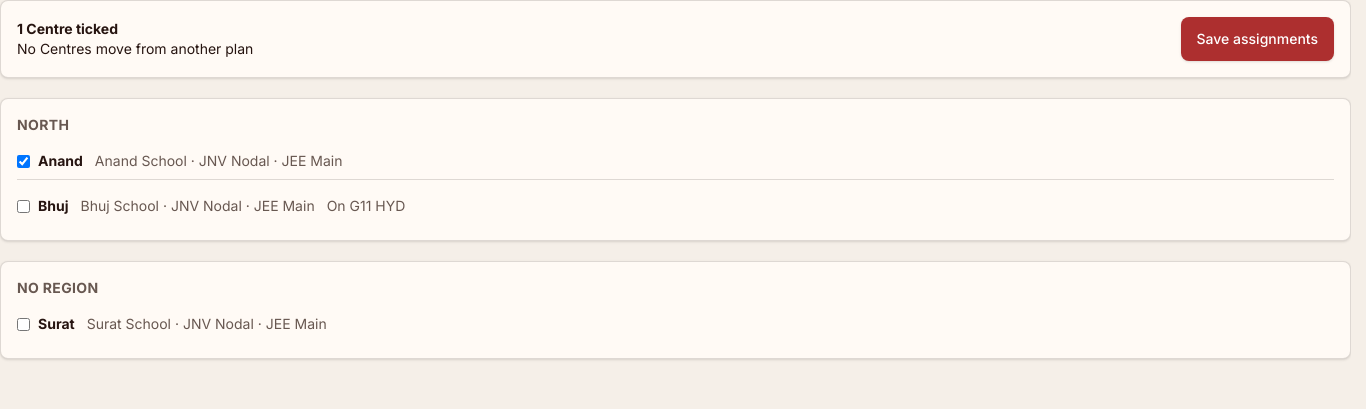
Test case: CurriculumPlanAssignForm › saves the ticked Centres and reloads the preview
Click the button "Save assignments".
click(1257, 39)  # box [1181,17,1334,61]
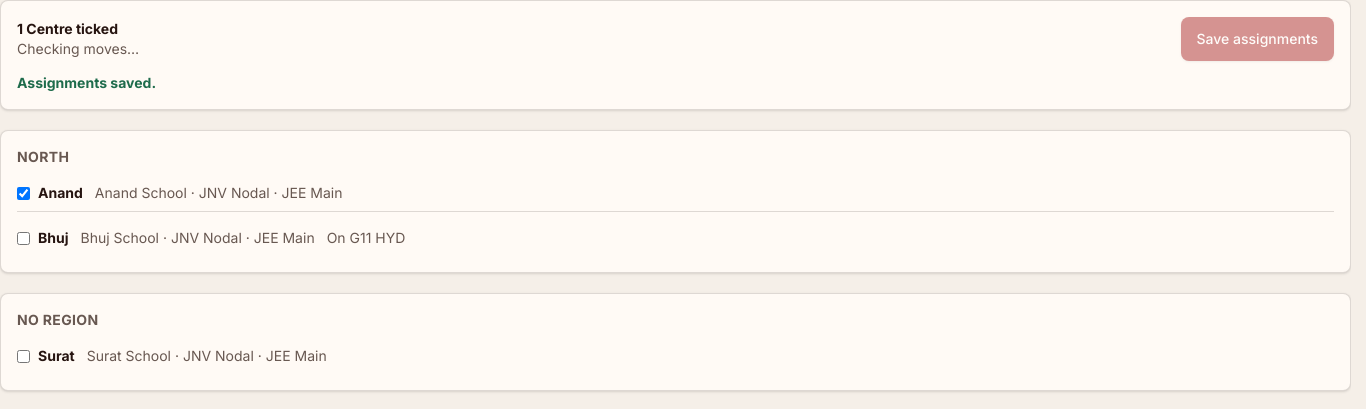
Result: the message reads "Assignments saved." at [17,74,156,91]
Result: the text "Checking moves…" is shown at [17,39,139,59]
